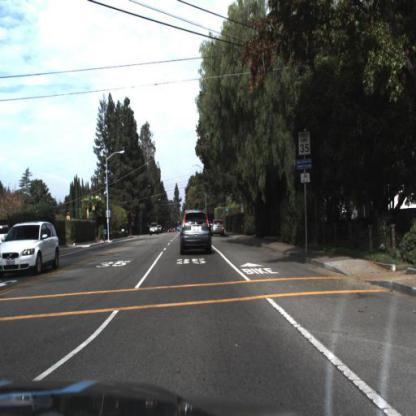car: (1, 213, 65, 287), (173, 202, 220, 264), (210, 218, 229, 238), (148, 220, 163, 238), (148, 220, 160, 239)
